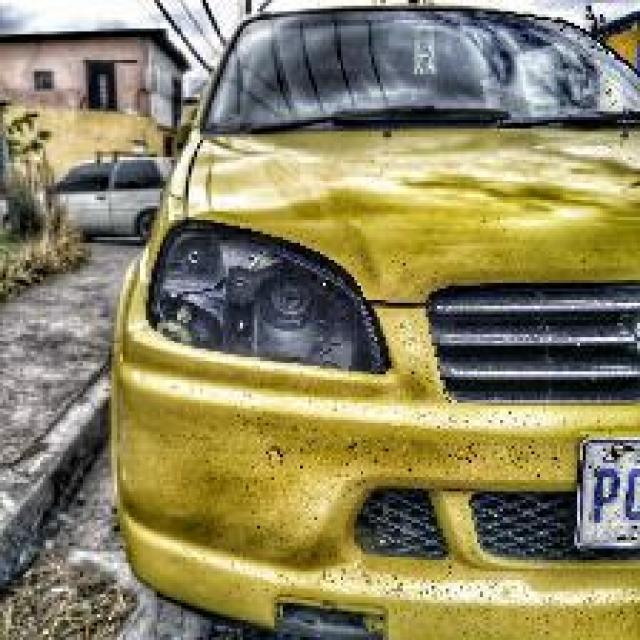damaged: (172, 191, 458, 603)
